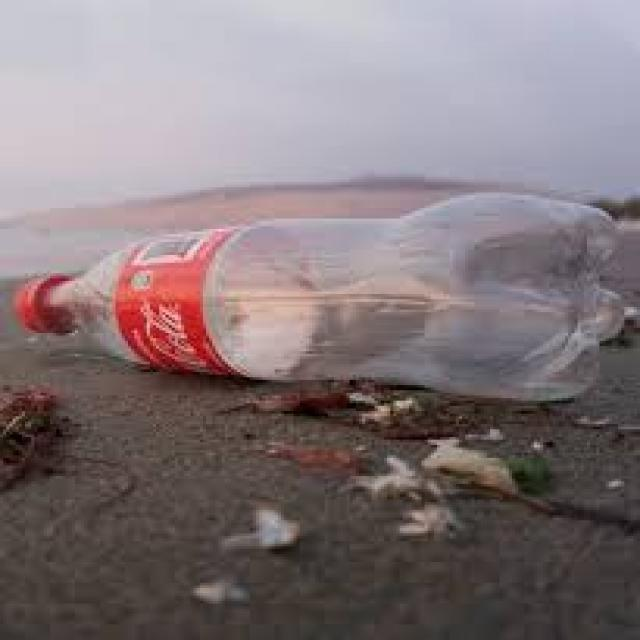plastic_bottle: (13, 193, 627, 401)
